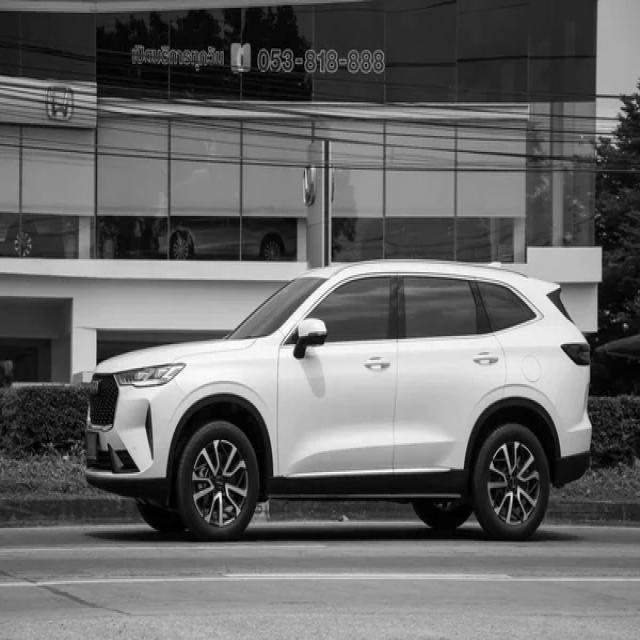Car: (86, 261, 591, 541)
